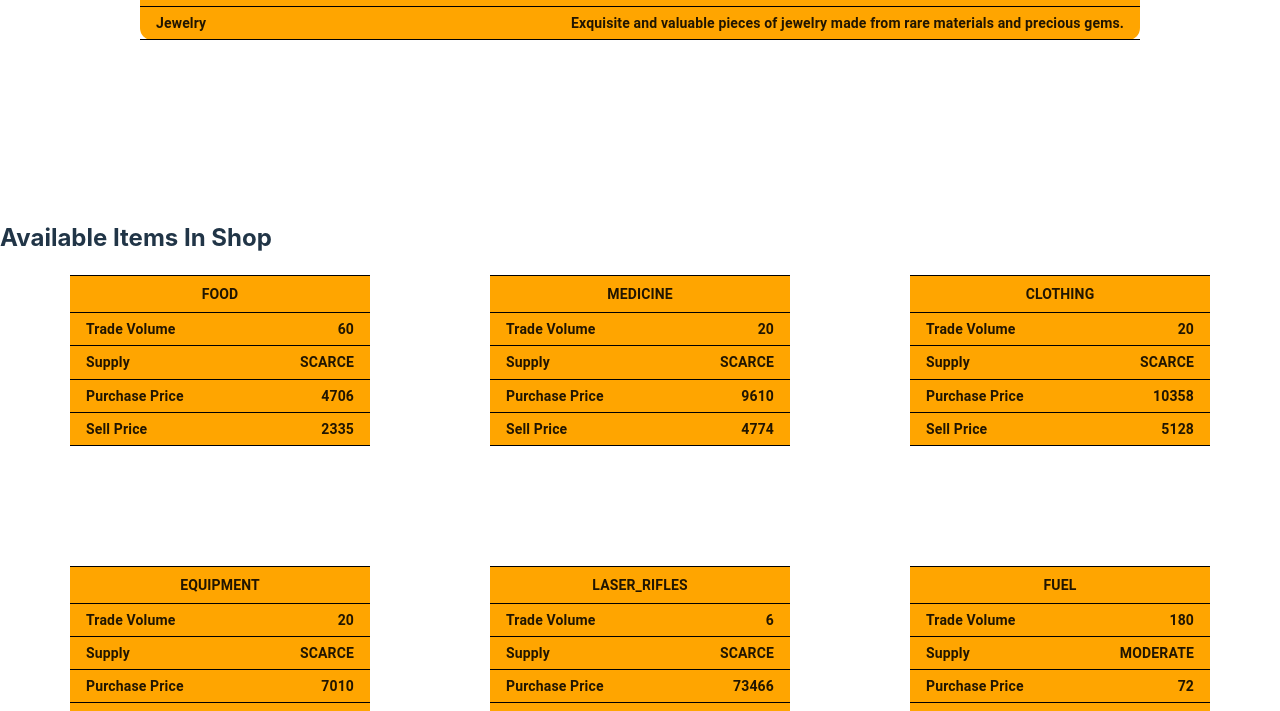
Test: Should error when trying to buy food without enough credits
(page scrolled)
Click the element with test id "market-item-FOOD" at coordinates (220, 361), box [70,276,370,446]
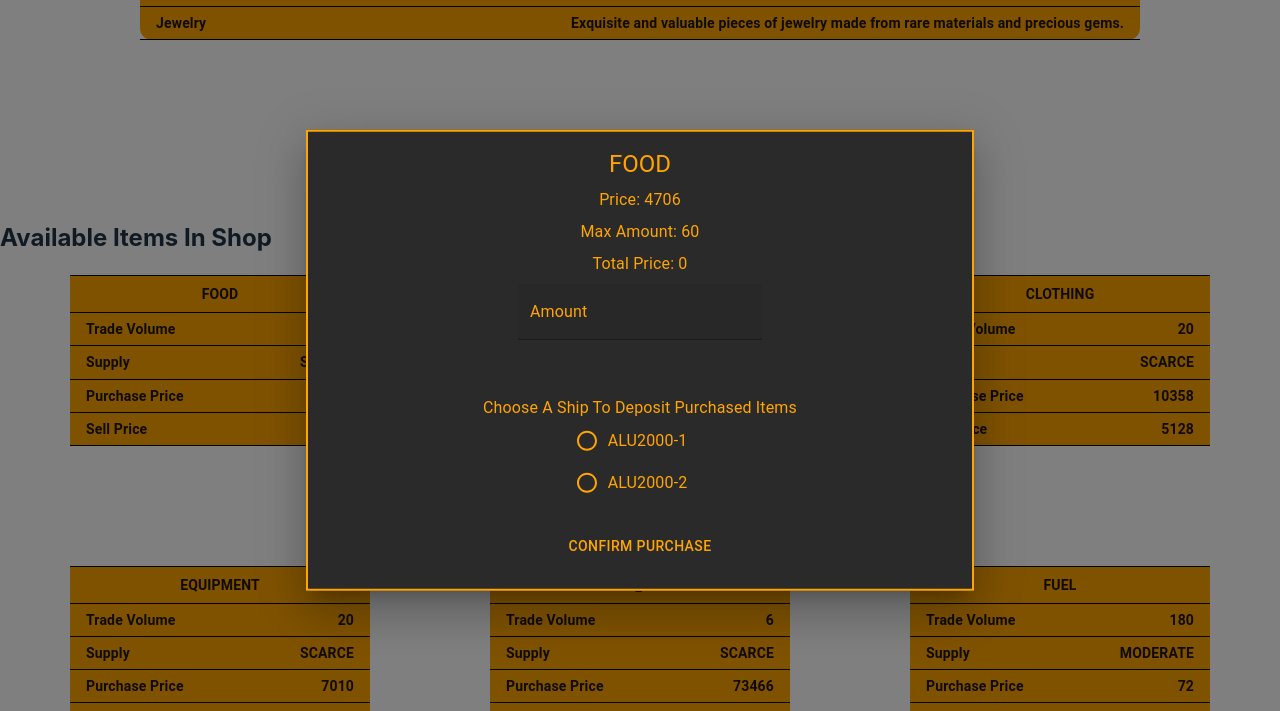
Expected: the text "Price: 4706" is shown, [599,188,681,212]
Expected: the text "Max Amount: 60" is shown, [580,220,700,244]
Type "1" into the number field labelled "Amount" at coordinates (640, 312), box [518,284,762,340]
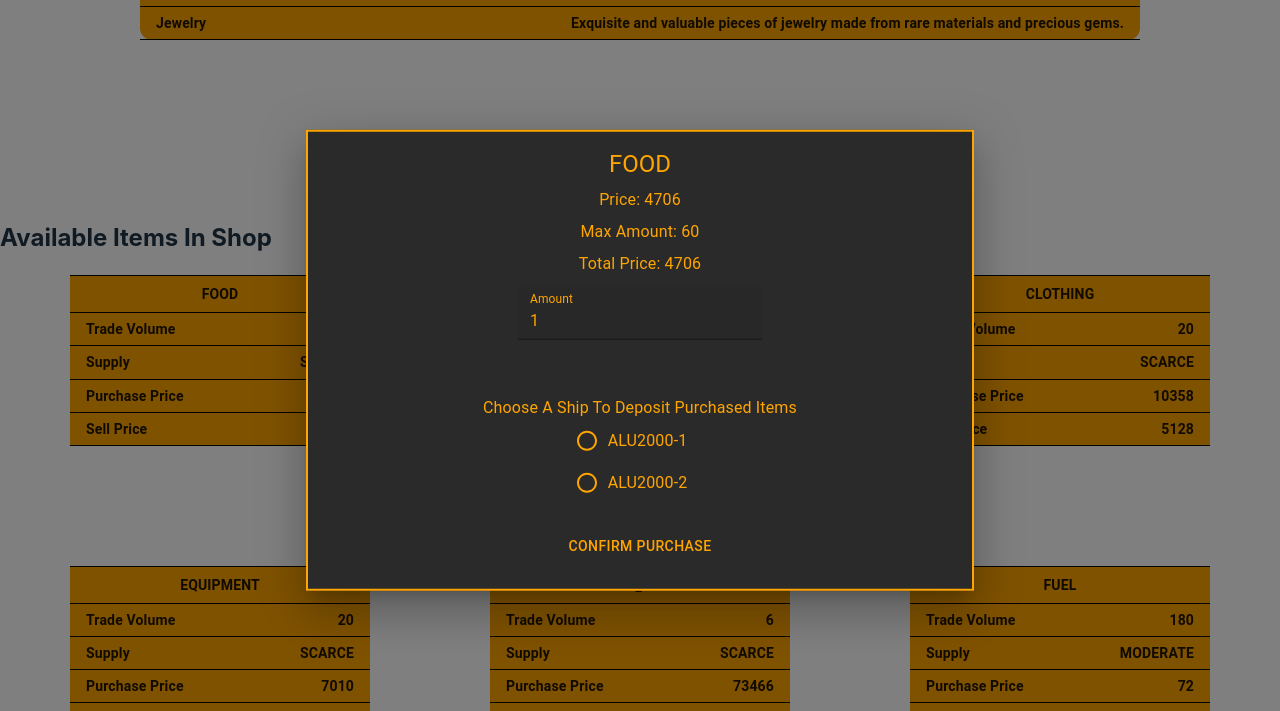
Click the radio button with test id "market-ship-ALU2000-1" at coordinates (631, 441), box [575,429,687,453]
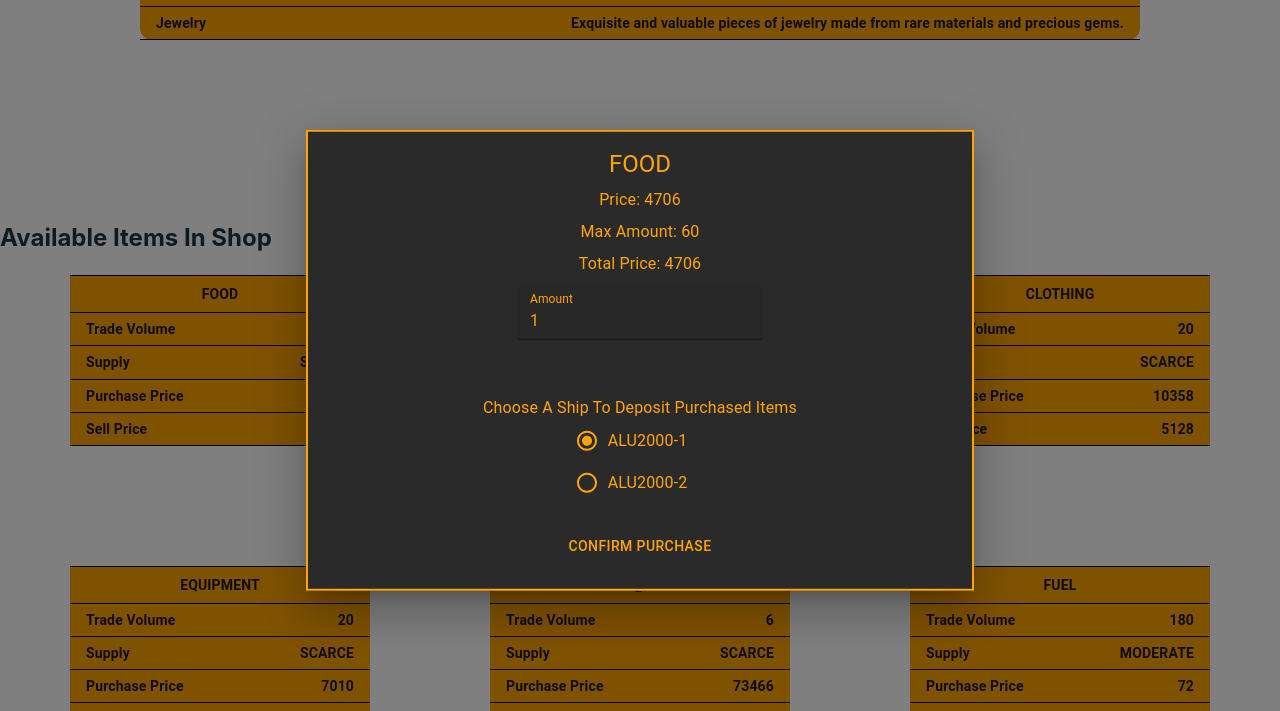
Click the button with test id "purchase-button" at coordinates (640, 546), box [560,528,720,564]
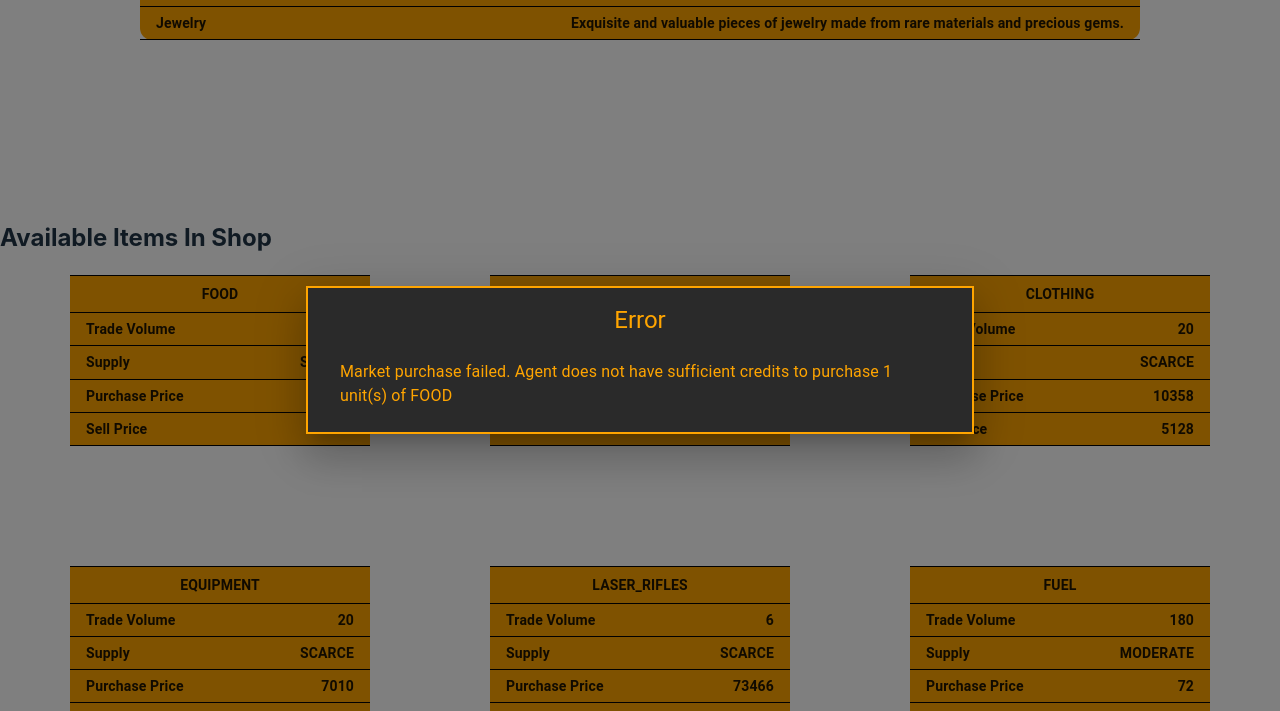
Expected: the heading "Error" is shown, [614,304,666,336]
Expected: the text "Market purchase failed. Agent does not have sufficient credits to purchase 1 unit(s) of FOOD" is shown, [340,362,892,405]
